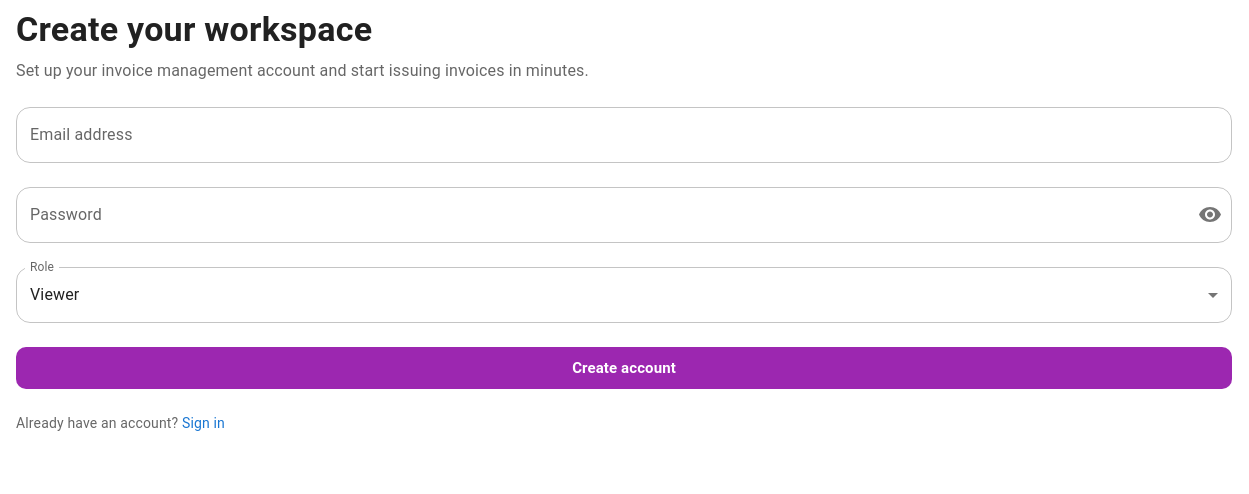
Test: Signup page › shows validation errors when form is invalid
This screenshot has width=1249, height=494.
In the password field labelled "Password": [599, 215] box [16, 187, 1182, 243], type "1234"
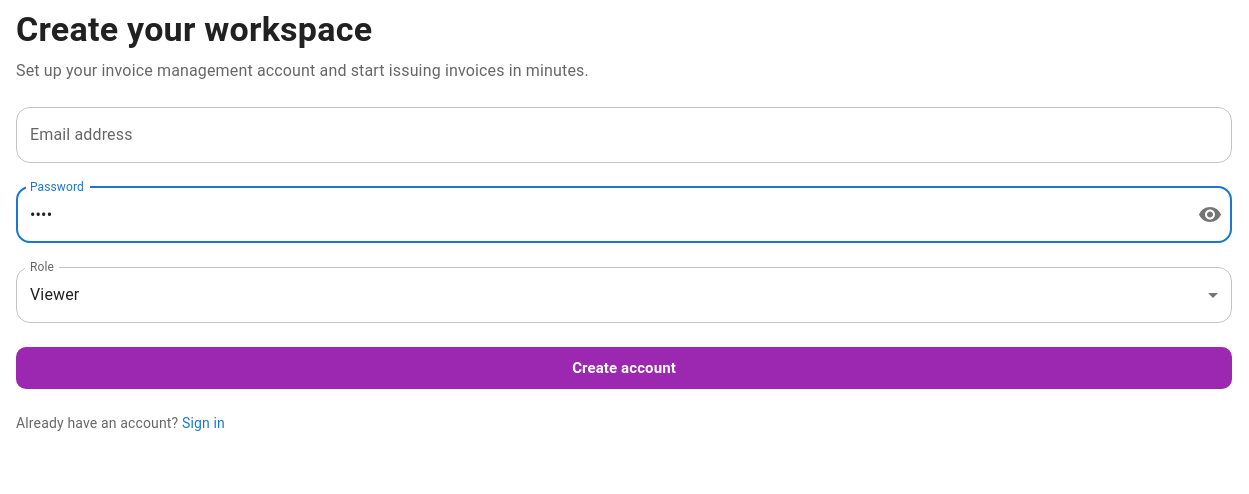
Click the button "Create account": [624, 368] box [16, 347, 1232, 389]
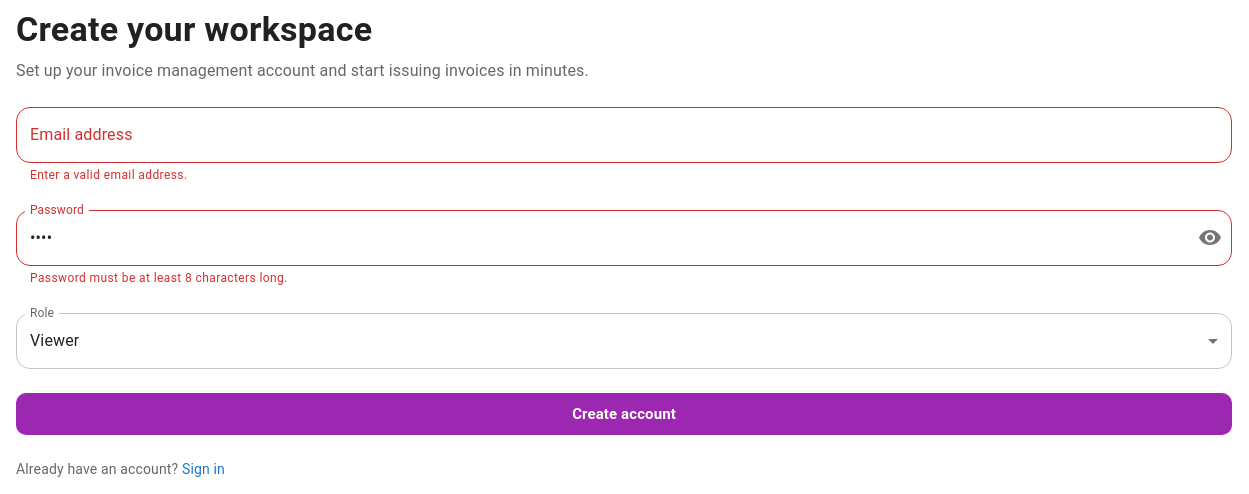
Check: the text "Enter a valid email address." is shown, box [30, 168, 188, 182]
Check: the text "Password must be at least 8 characters long." is shown, box [30, 271, 288, 285]
